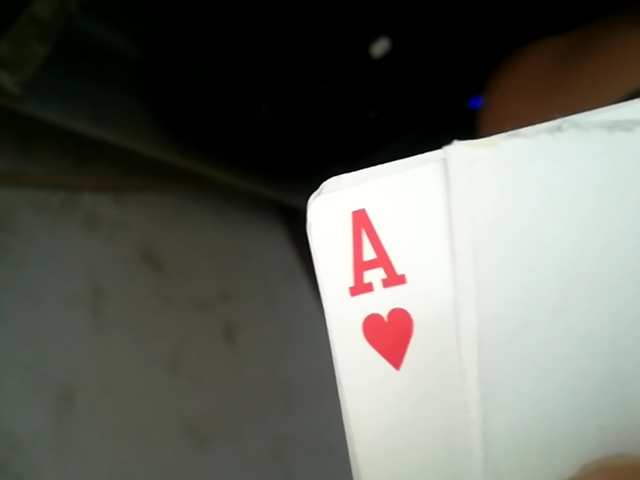hx a: (331, 209, 428, 371)
